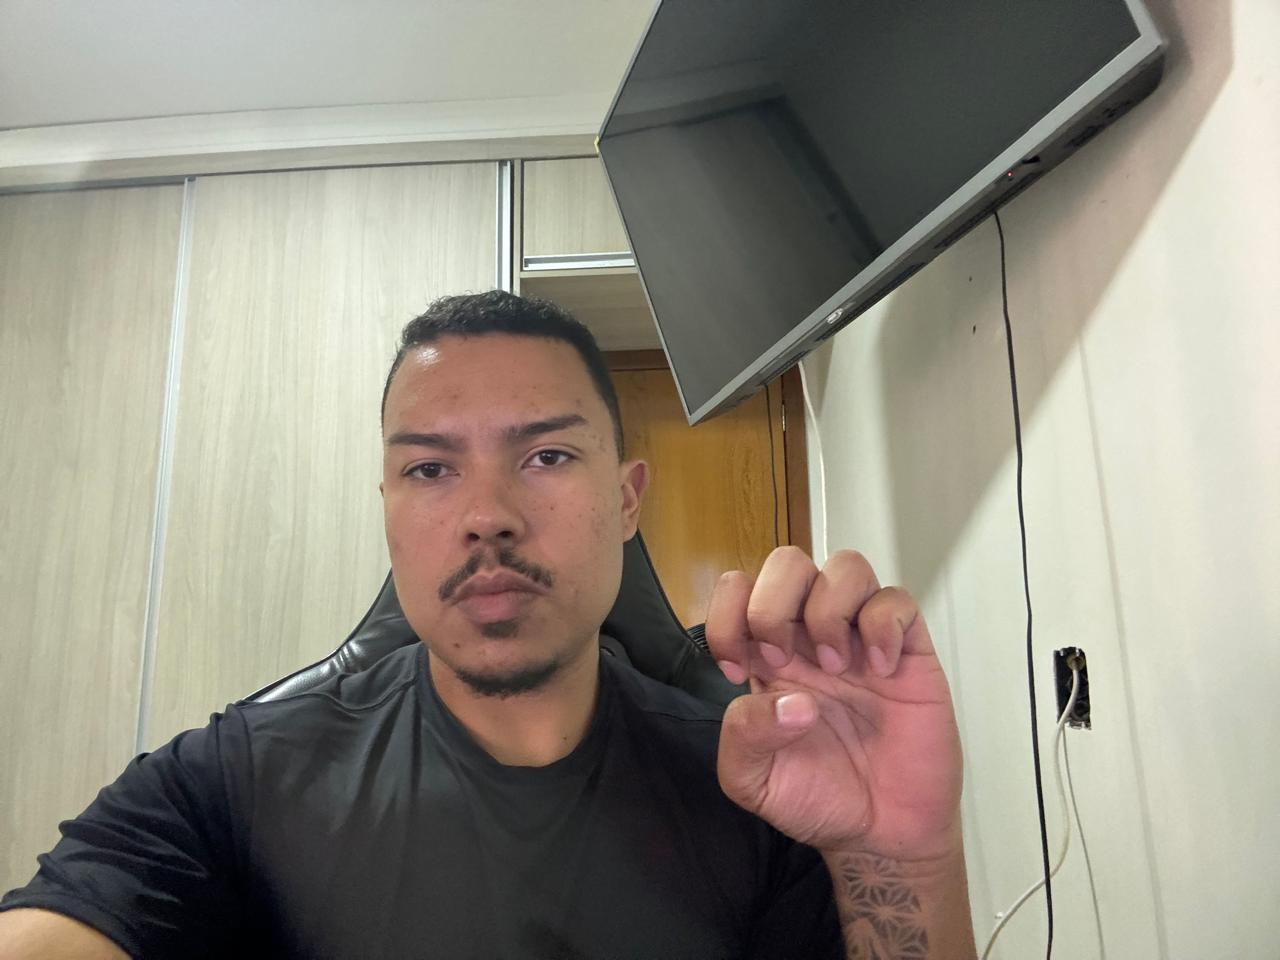e: (690, 542, 975, 863)
